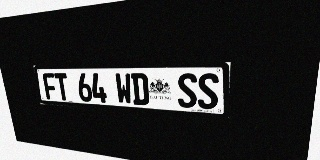4: (90, 73, 107, 103)
6: (76, 73, 93, 102)
D: (131, 73, 149, 105)
F: (42, 73, 58, 100)
S: (198, 73, 219, 110), (177, 73, 197, 108)
T: (54, 73, 70, 101)
W: (115, 73, 133, 104)
